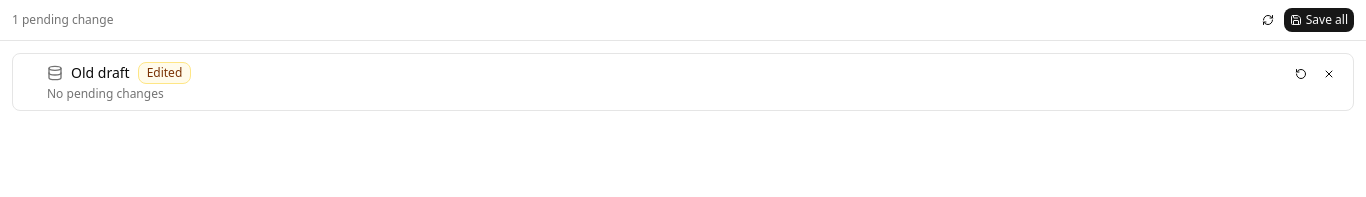
Scenario: Canvas read and mutation ordering › discards a poll that completes after remove
Expected: the text "Old draft" is shown, [71,63,130,83]
What coordinates should you click on to do the following:
click the button with test id "canvas-remove-shared_dataset"
I would click on:
 (1329, 74)
Its box is [1317,62,1341,86].
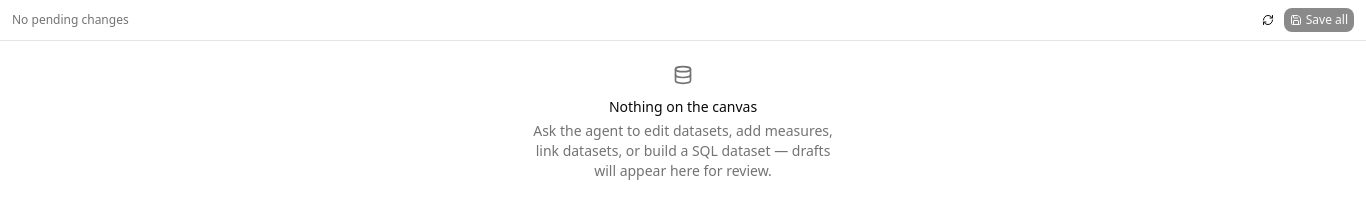
Now the heading "Nothing on the canvas" is shown, box [609,97,757,116]
Now the button "Old draft" is gone
Now the text with test id "canvas-pending-count" reads "No pending changes", box [12,11,129,28]
